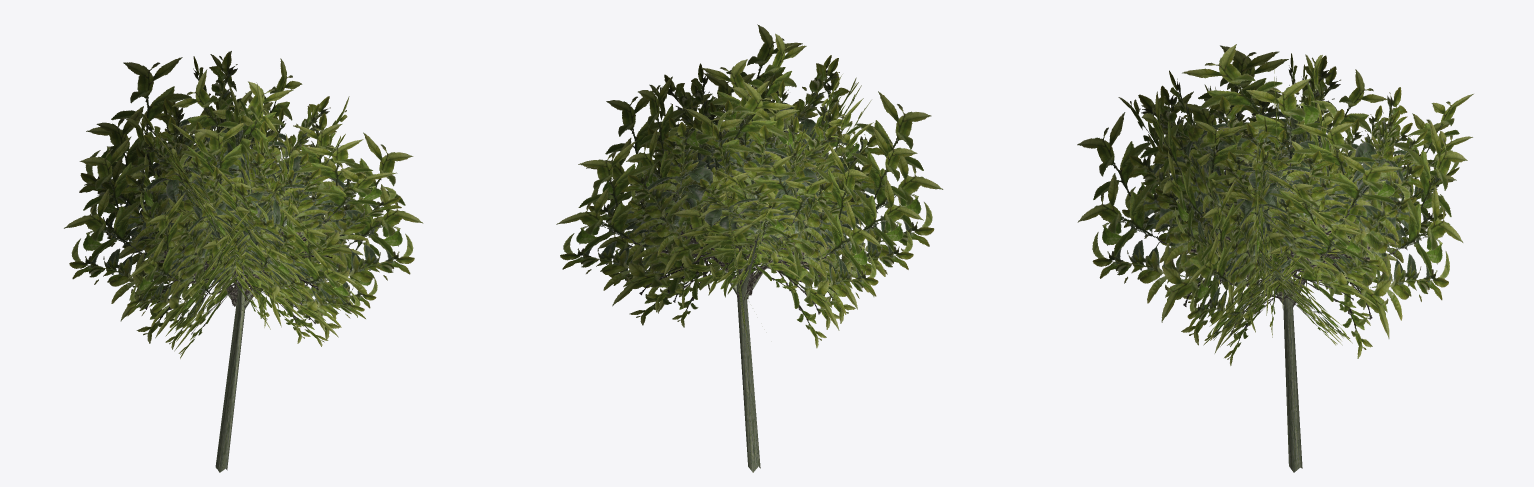
Rendered from LemonTree.dae.
3 views of the same model, side by side, from view 1: azimuth 30°, elevation 25°; view 2: azimuth 150°, elevation 25°; view 3: azimuth 270°, elevation 25° (orthographic). The views are drawn at different scales.
Visible parts, largest first — view 1: LemonTree; view 2: LemonTree; view 3: LemonTree.
Part boxes in pixels (x1=…): LemonTree: x1=64, y1=51, x2=423, y2=472; LemonTree: x1=556, y1=24, x2=943, y2=472; LemonTree: x1=1077, y1=44, x2=1473, y2=472.
Size of the model in its own units: 0.6127 by 0.6675 by 0.669.
1 material, 1 textured.
